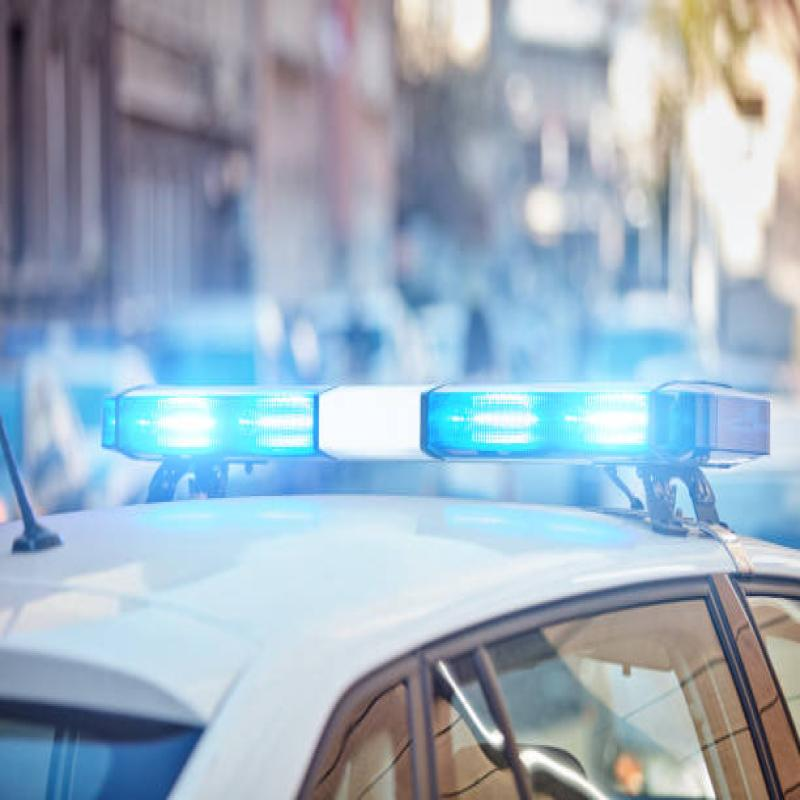AmbulanceSiren: (101, 334, 736, 459)
